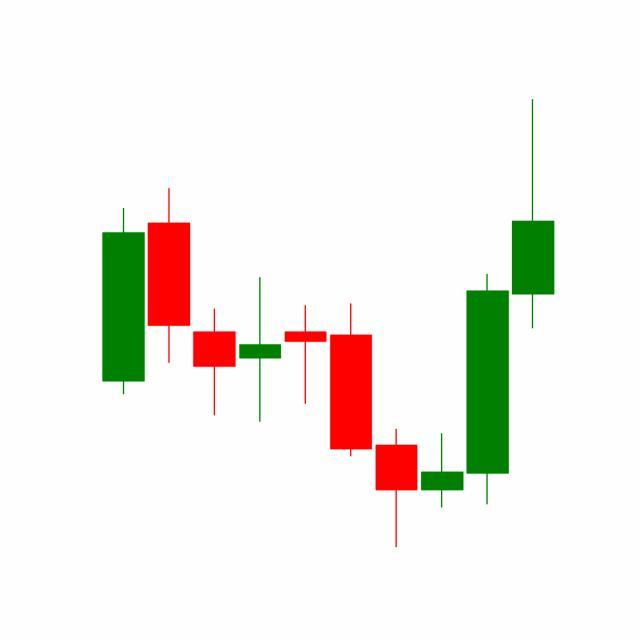Hikkake Pattern: (283, 270, 512, 548)
